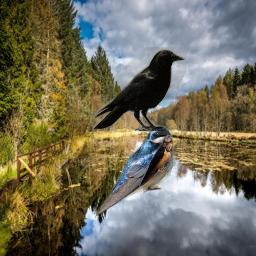Crow: (90, 47, 186, 135)
Swallow: (96, 124, 175, 217), (139, 137, 173, 187)
